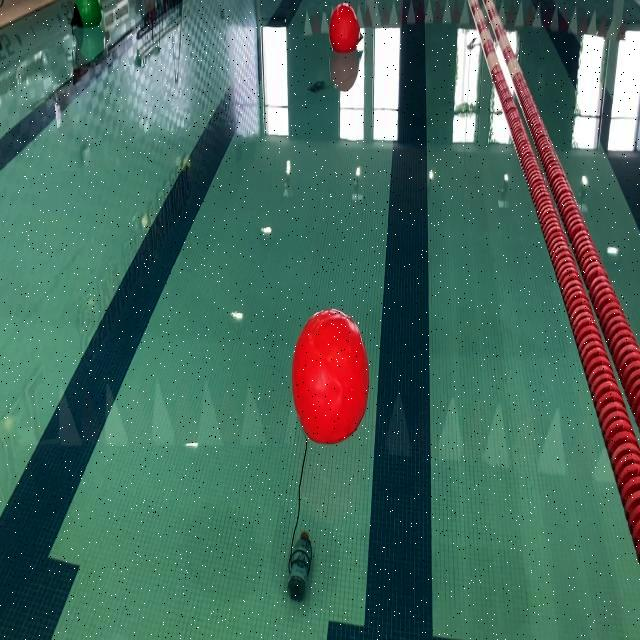buoy: (292, 306, 369, 445), (330, 2, 360, 56), (70, 1, 101, 29)
